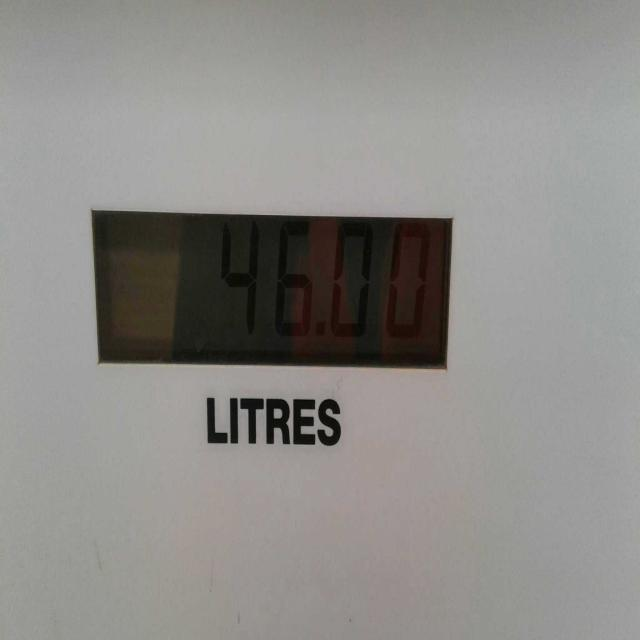.: (312, 314, 331, 350)
0: (328, 207, 376, 349), (381, 220, 432, 338)
4: (214, 208, 270, 349)
6: (268, 200, 318, 354)
